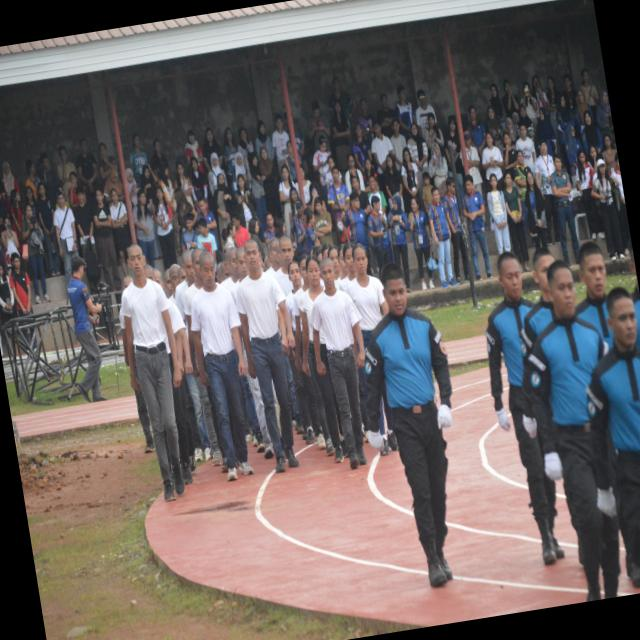person: (521, 261, 620, 600), (365, 264, 452, 586), (486, 252, 564, 565), (120, 245, 184, 500), (588, 288, 639, 566), (237, 240, 298, 472), (192, 252, 253, 480), (311, 258, 367, 469), (68, 255, 104, 402), (348, 245, 388, 346), (592, 159, 624, 260), (463, 176, 492, 281), (551, 155, 579, 263), (428, 188, 458, 287), (443, 178, 470, 283), (409, 197, 434, 290), (388, 194, 411, 292), (53, 192, 78, 282)
